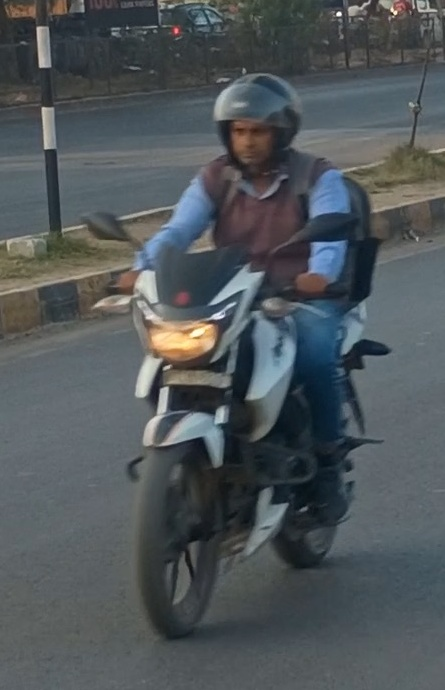BikeWithRider: (76, 64, 396, 643)
Helmet: (199, 64, 311, 178)
